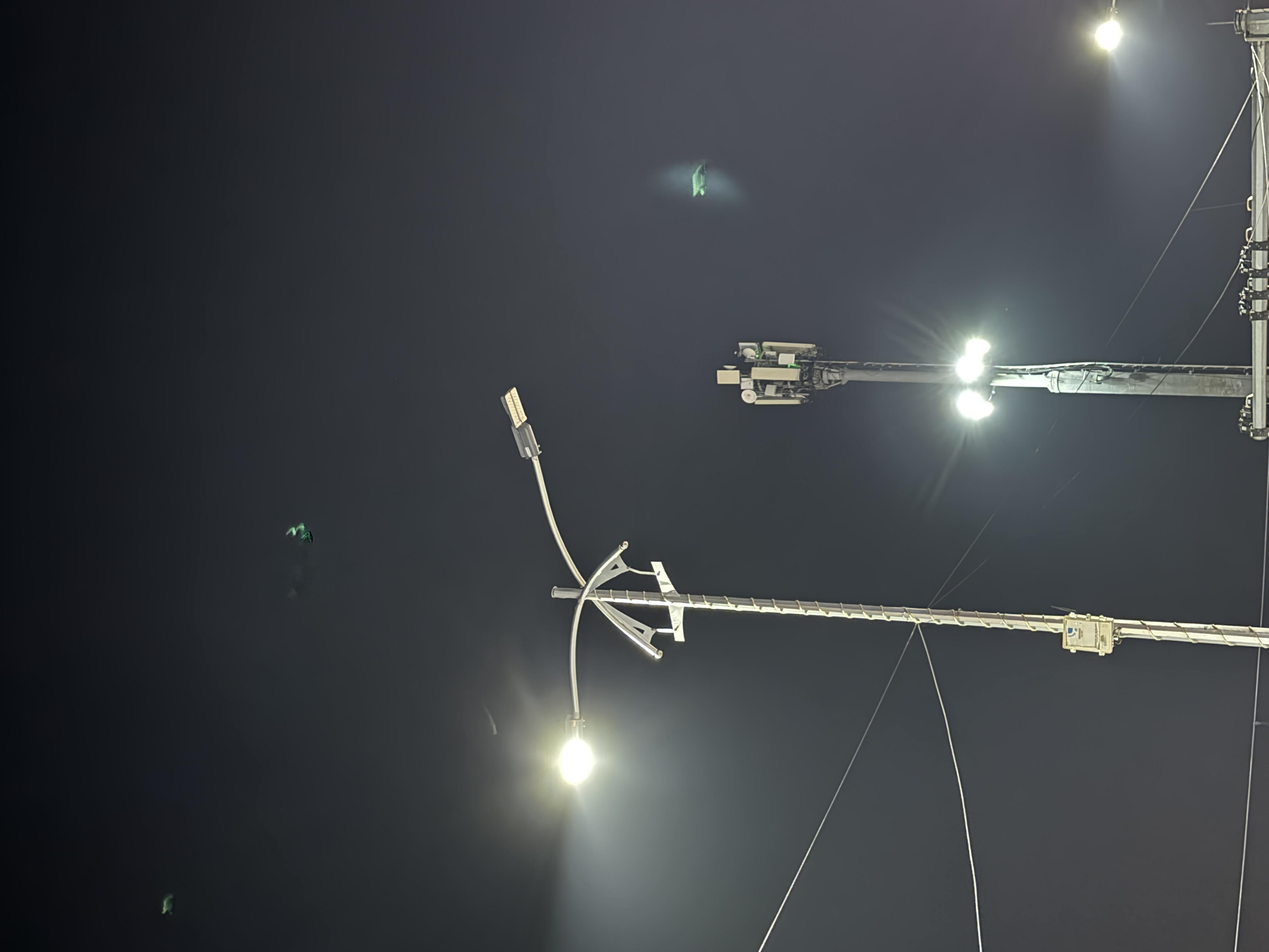streetlight: (500, 373, 756, 438)
